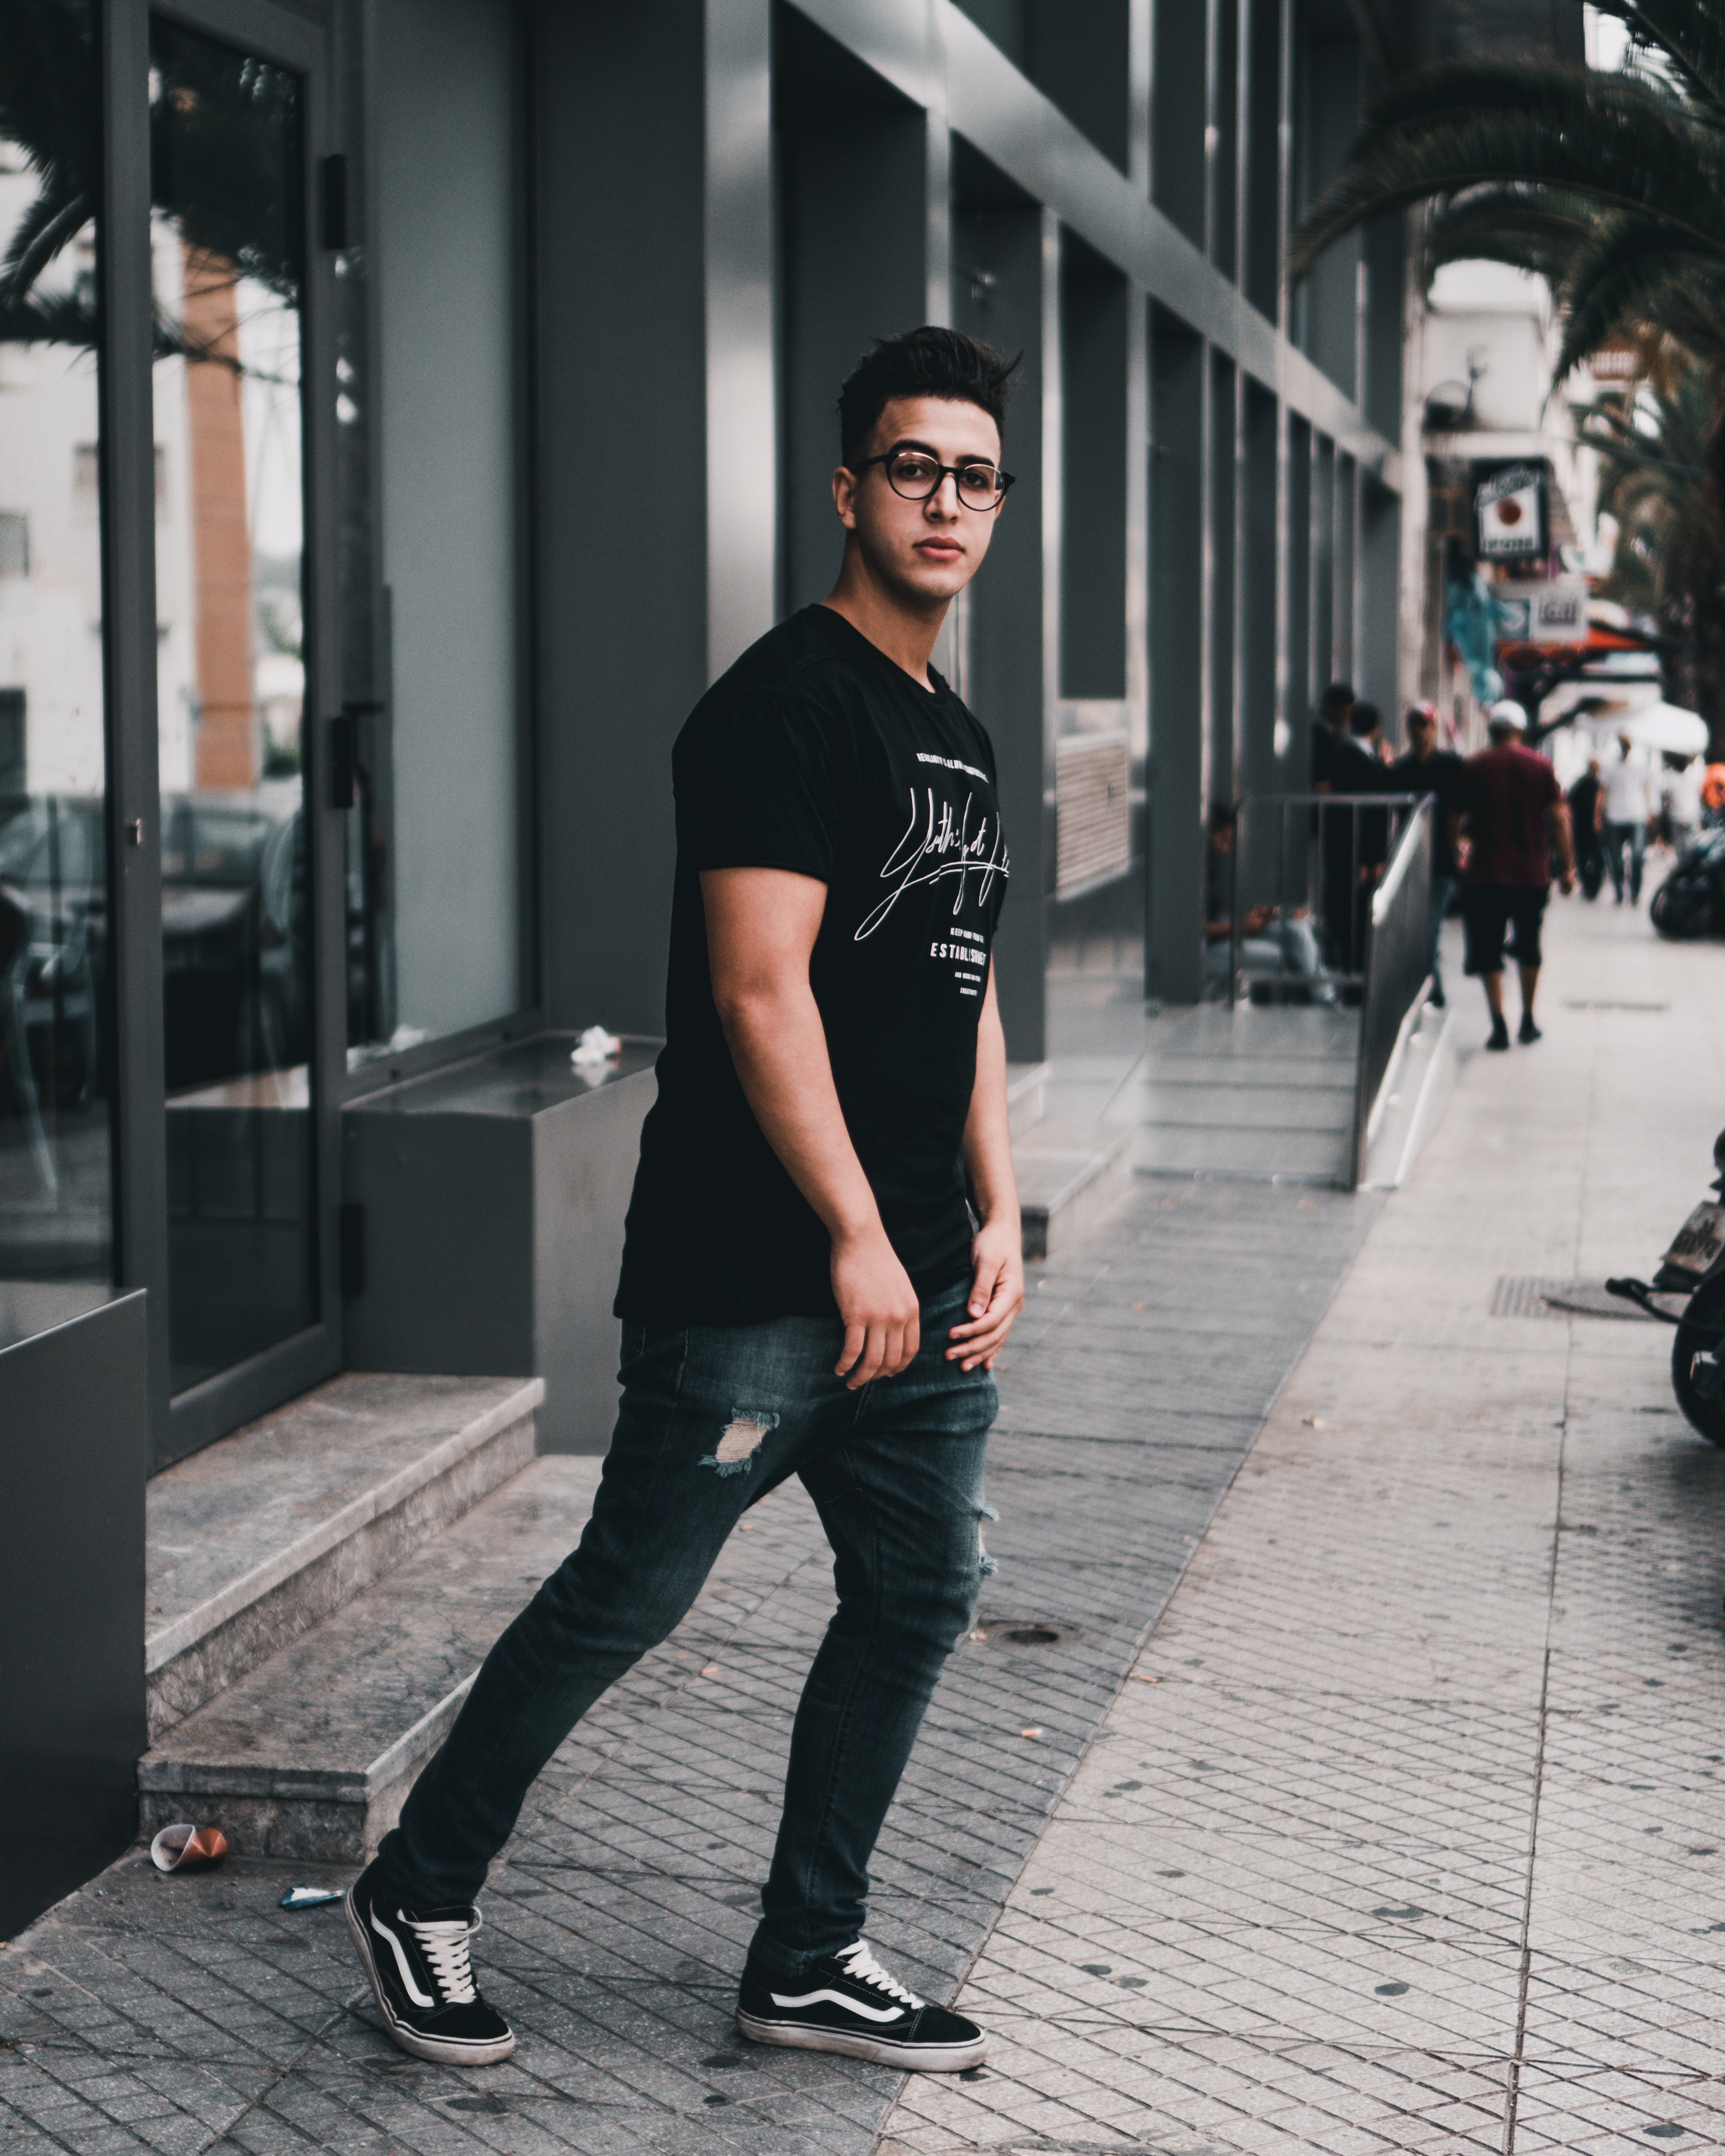person: (375, 328, 1029, 2061)
